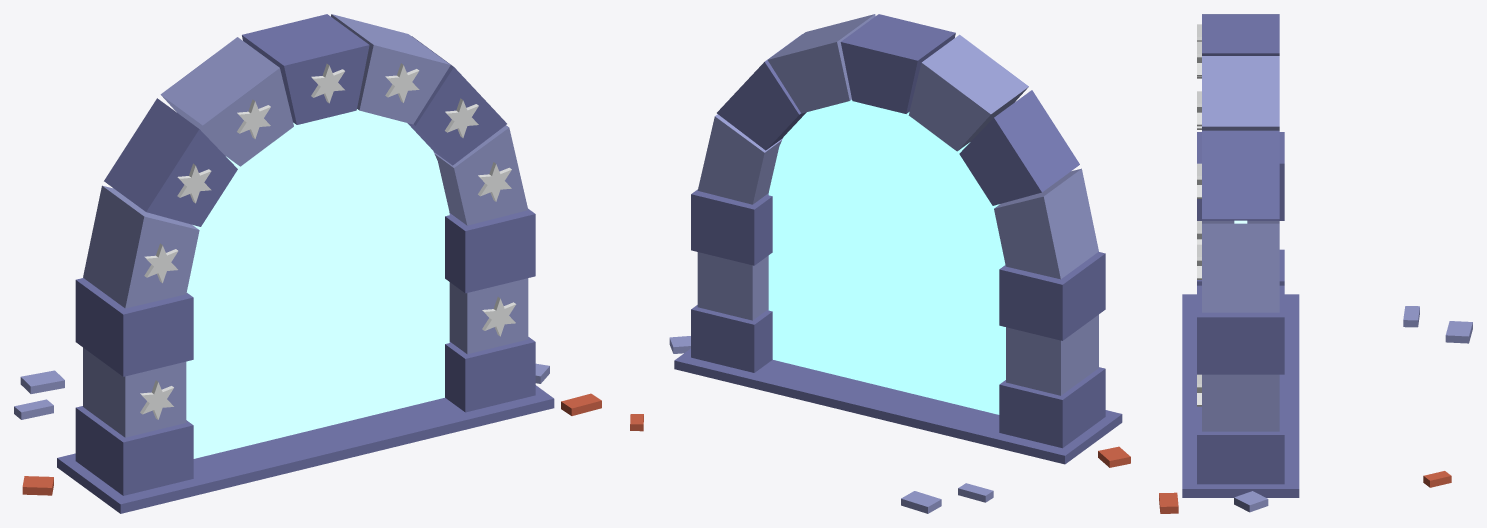
The model's file is PortalArch.fbx.
The picture shows the model from 3 angles, left to right: view 1: azimuth 30°, elevation 25°; view 2: azimuth 150°, elevation 25°; view 3: azimuth 270°, elevation 25°; orthographic projection. The views are drawn at different scales.
Parts seen in each view (by area): view 1: PortalGlow, StoneLilacDark.001, StoneLilac.001, White.008, Brick.002; view 2: PortalGlow, StoneLilacDark.001, StoneLilac.001, Brick.002; view 3: StoneLilacDark.001, StoneLilac.001, White.008, Brick.002.
Boxes of the visible parts, x1,y1,x2,y2 form: PortalGlow: (186, 109, 449, 458); StoneLilacDark.001: (57, 14, 554, 513); StoneLilac.001: (14, 14, 549, 437); White.008: (140, 63, 516, 419); Brick.002: (22, 393, 601, 495); PortalGlow: (768, 99, 1005, 414); StoneLilacDark.001: (674, 14, 1122, 464); StoneLilac.001: (669, 14, 1098, 513); Brick.002: (630, 414, 1130, 467); StoneLilacDark.001: (1182, 15, 1299, 497); StoneLilac.001: (1202, 14, 1472, 512); White.008: (1197, 24, 1201, 406); Brick.002: (1159, 471, 1451, 513).
Size of the model in its own units: 17.13 by 12.45 by 9.67.
